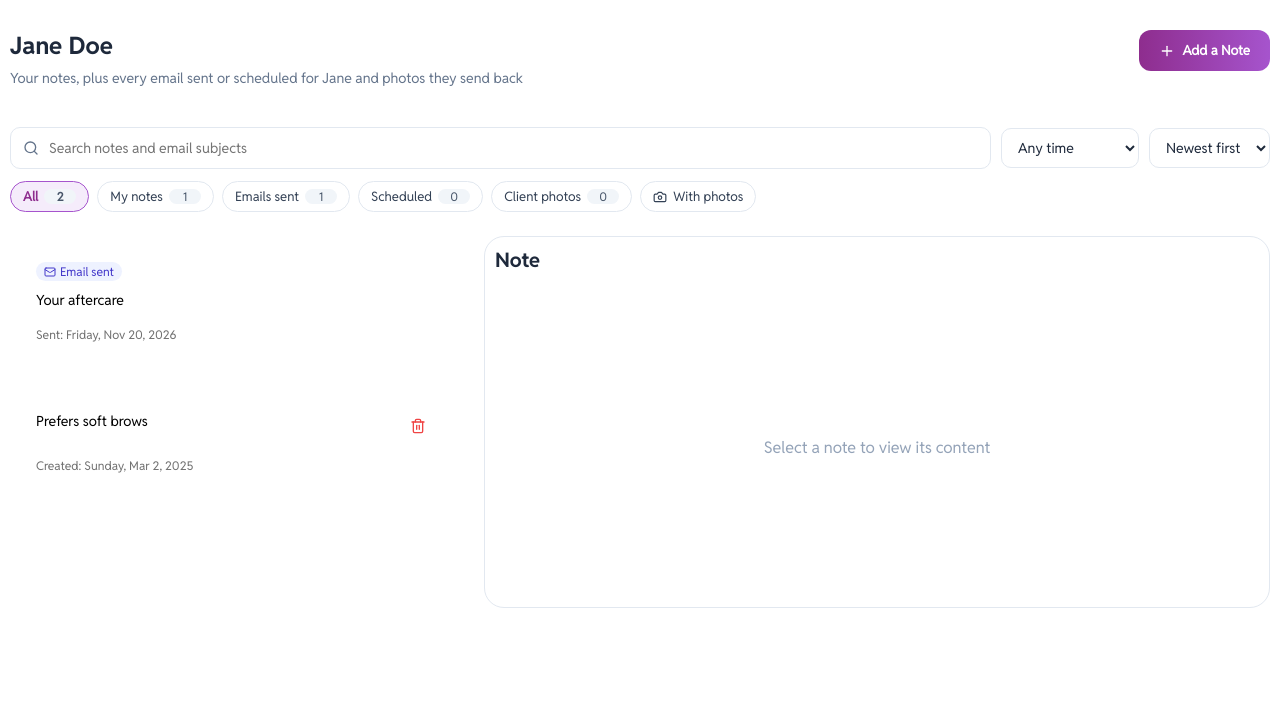
Scenario: ClientNotesPage: filters › filters by custom dates and type, and clears
The width and height of the screenshot is (1280, 720).
Expected: the text "Prefers soft brows" is shown, [36,412,148,430]
Select "Custom dates" in the dropdown named "Date range" at [1070, 148], box [1001,128,1139,168]
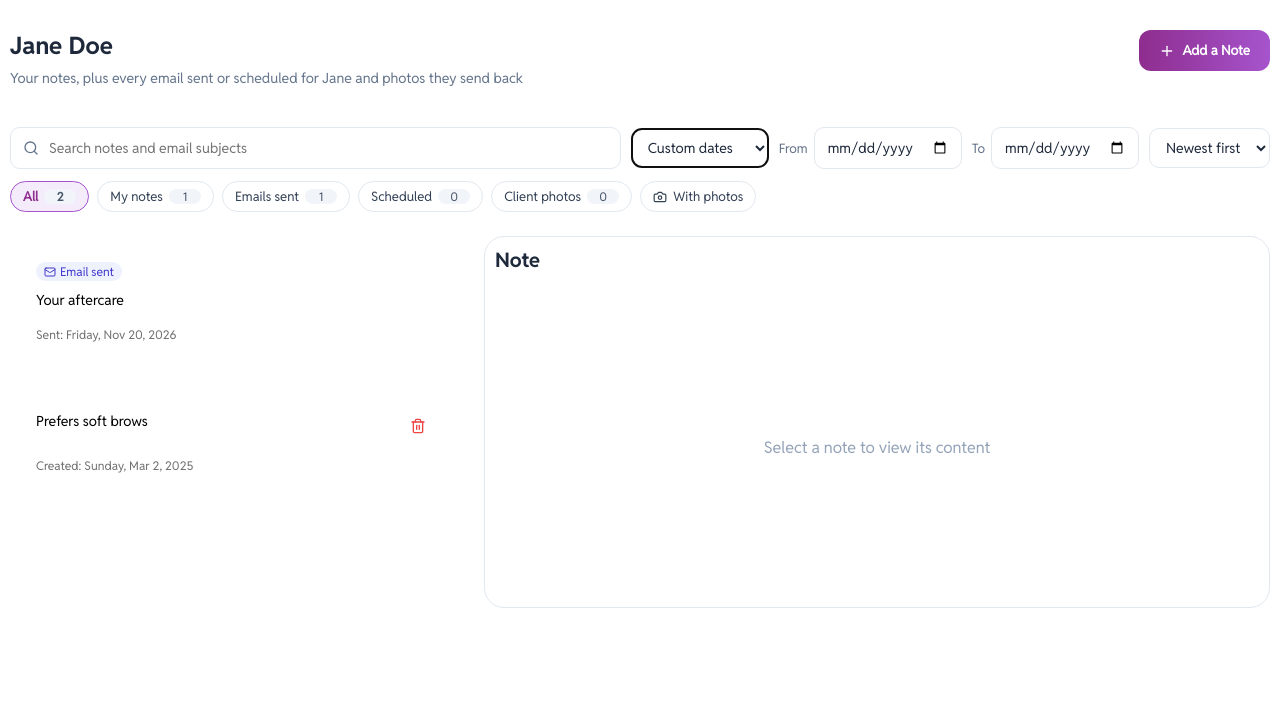
Type "2025-01-01" into the date field named "From date" at [888, 148], box [814,127,962,169]
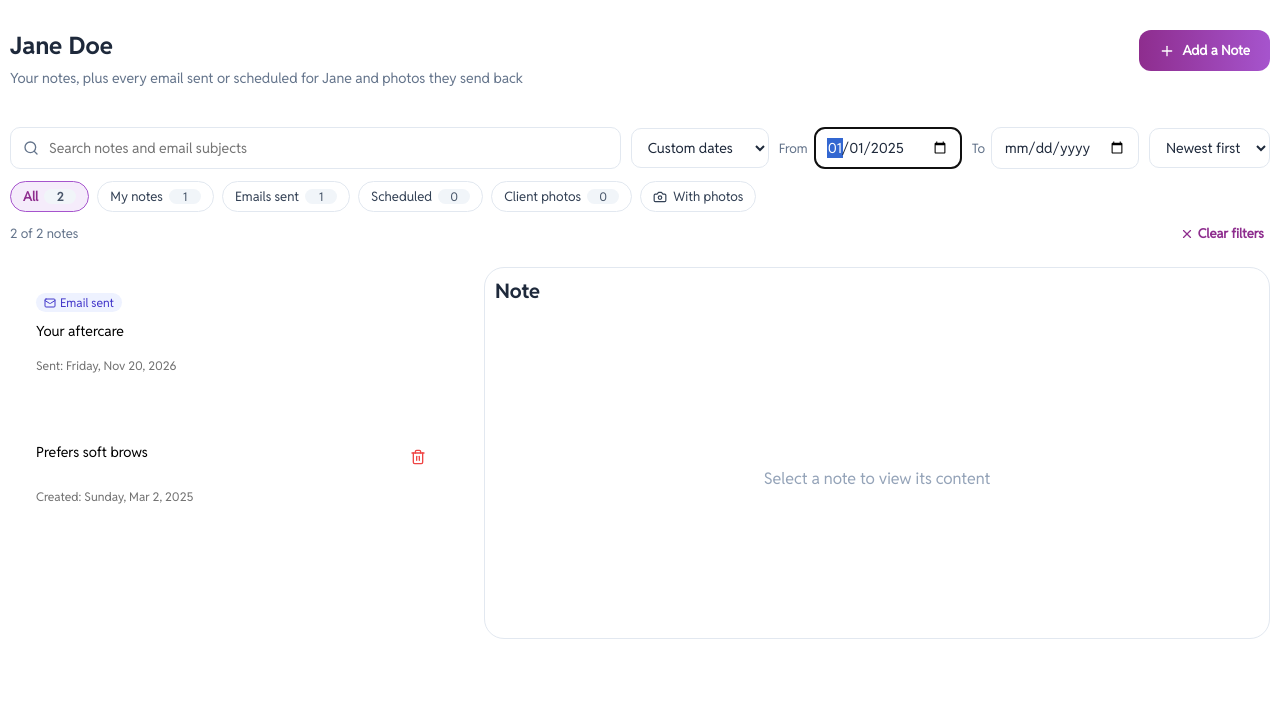
Type "2025-12-31" into the date field named "To date" at [1065, 148], box [991,127,1139,169]
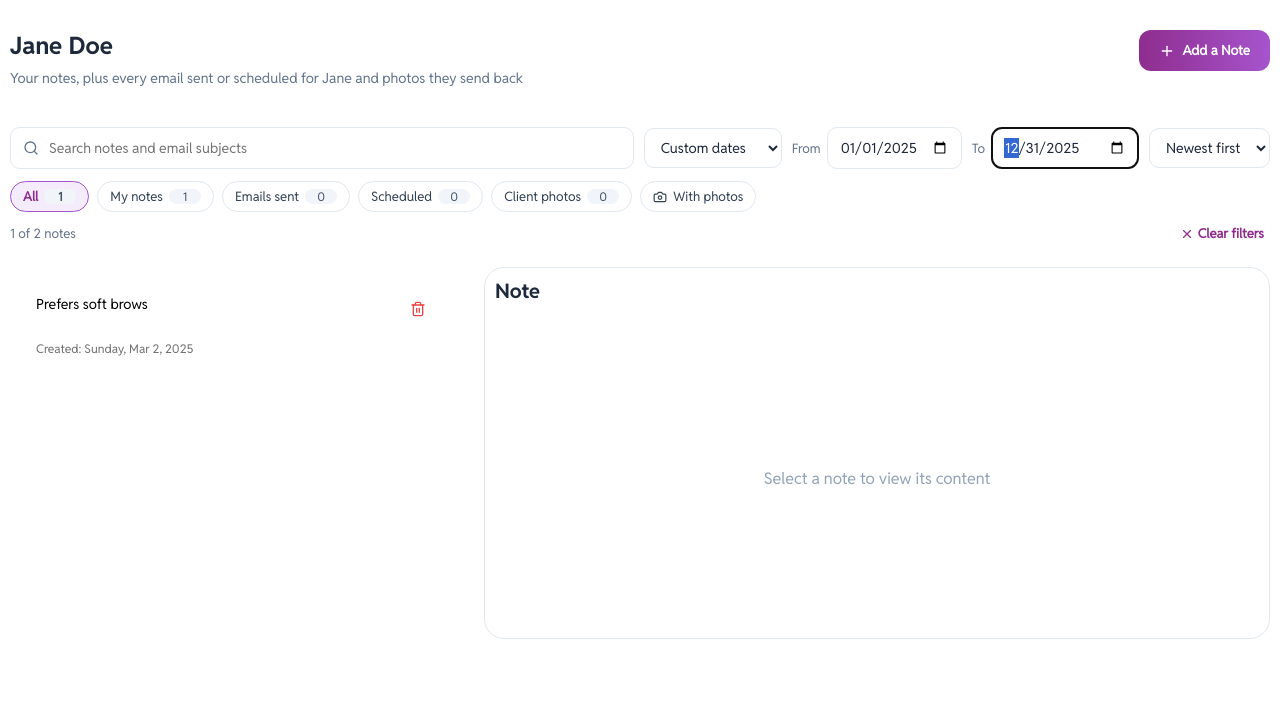
Expected: the text "Prefers soft brows" is shown, [36,295,148,313]
Result: the text "1 of 2 notes" is shown at [10,225,76,242]
Result: the text "Your aftercare" is gone
Note: no emails in that range
Click the button "Emails sent 0" at [286, 196], box [222,181,350,212]
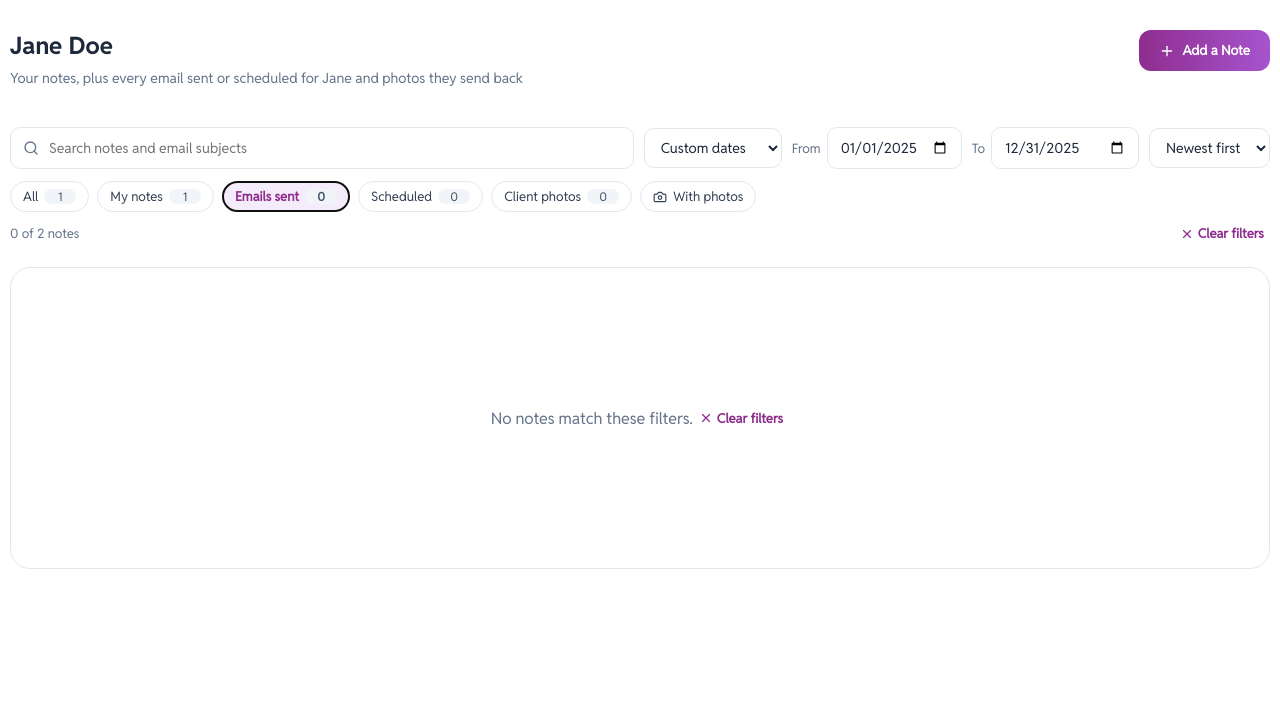
Result: the text "No notes match these filters." is shown at [491,408,693,428]
Click the button "Clear filters" in the row of "of" at [1222, 234], box [1174,224,1270,243]
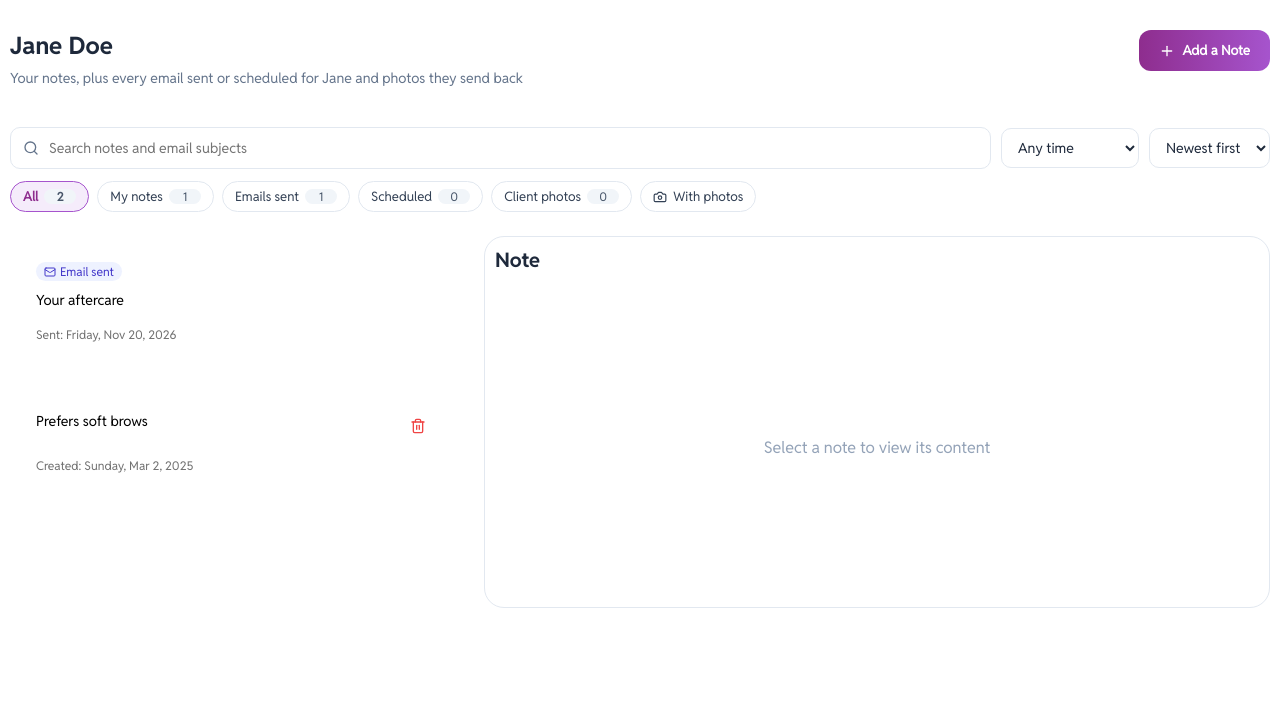
Result: the text "Prefers soft brows" is shown at [36,412,148,430]
Result: the text "Your aftercare" is shown at [36,291,124,309]
